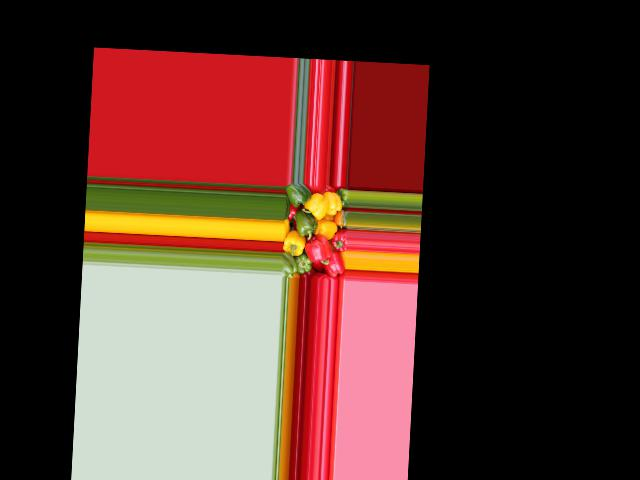bell_pepper: (337, 188, 349, 210)
